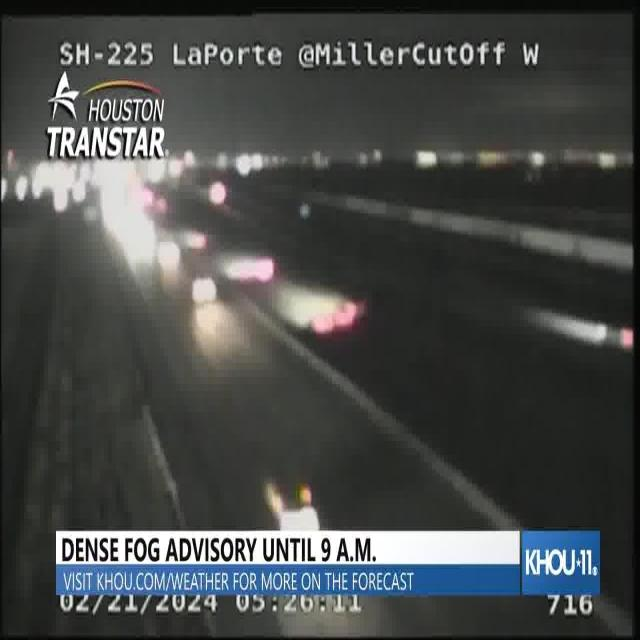Car: (260, 469, 318, 532), (600, 322, 633, 354), (190, 279, 218, 307)
